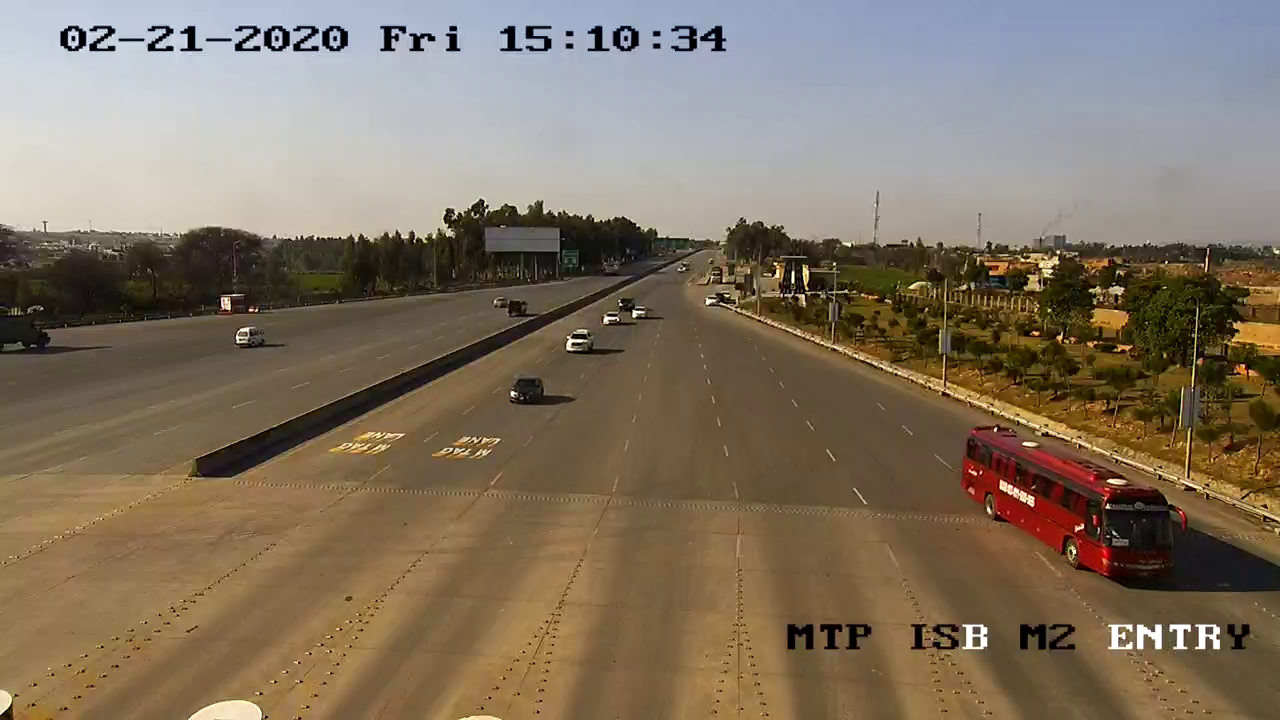f4: (955, 410, 1199, 591)
